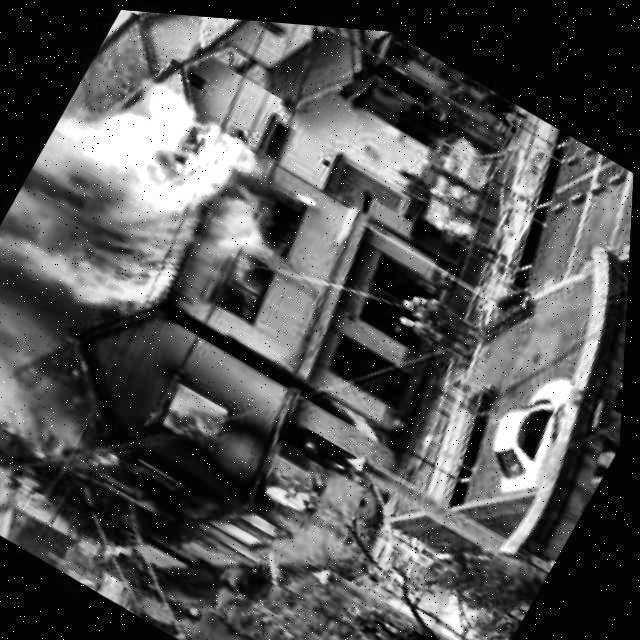Fire: (73, 277, 408, 598), (213, 240, 284, 313)
Smoke: (0, 33, 267, 490)
